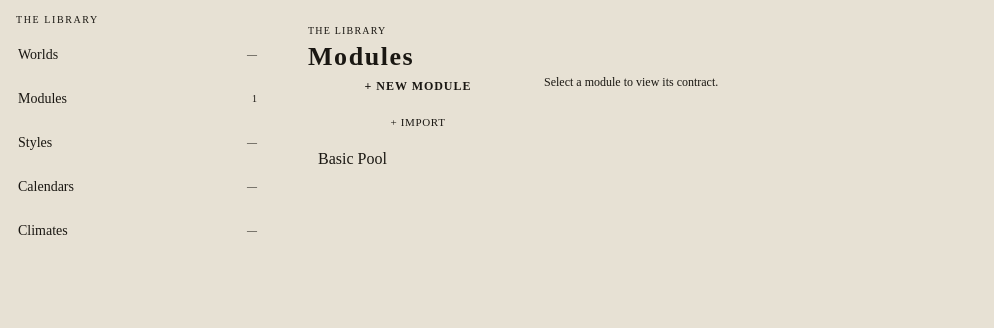
Test: clicking a row shows the read-only module detail
The width and height of the screenshot is (994, 328).
Click the link "Basic Pool" at (352, 159), box [318,150,387,167]
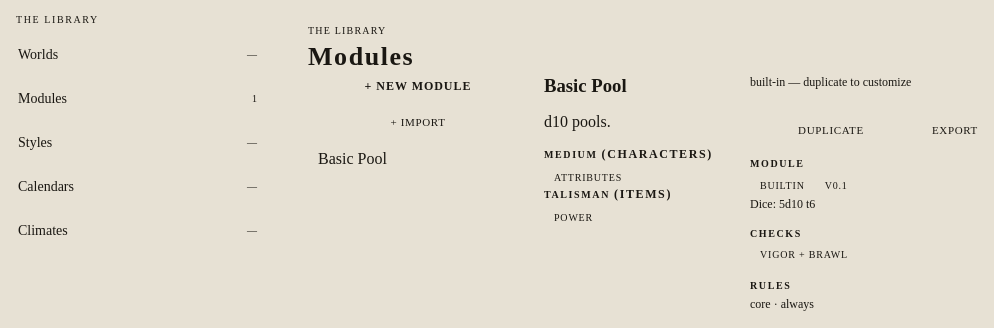
Result: the text "d10 pools." is shown at [544,113,611,130]
Result: the heading "Medium (characters)" is shown at [544,147,730,162]
Result: the heading "Talisman (items)" is shown at [544,187,672,201]
